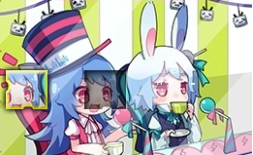gap: (84, 70, 126, 109)
